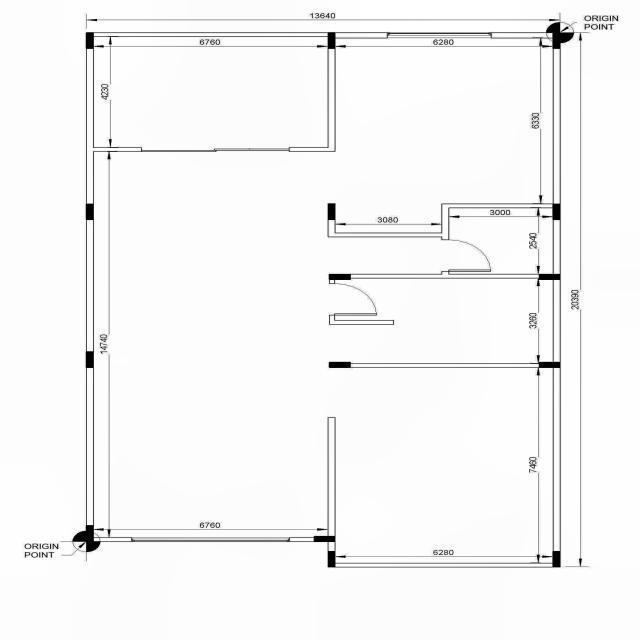Column: (552, 550, 560, 568), (328, 550, 336, 568), (552, 32, 560, 49), (552, 203, 560, 220), (86, 525, 94, 542), (86, 351, 94, 368), (86, 203, 94, 220), (86, 32, 94, 49), (328, 32, 336, 49), (328, 203, 336, 220), (538, 274, 560, 280), (538, 362, 560, 368), (314, 536, 336, 542), (329, 274, 351, 280), (329, 362, 351, 368)
Door: (441, 240, 491, 272), (329, 284, 377, 316)
Sliding Door: (142, 147, 290, 152)
Window: (132, 537, 290, 542), (387, 32, 491, 38)
